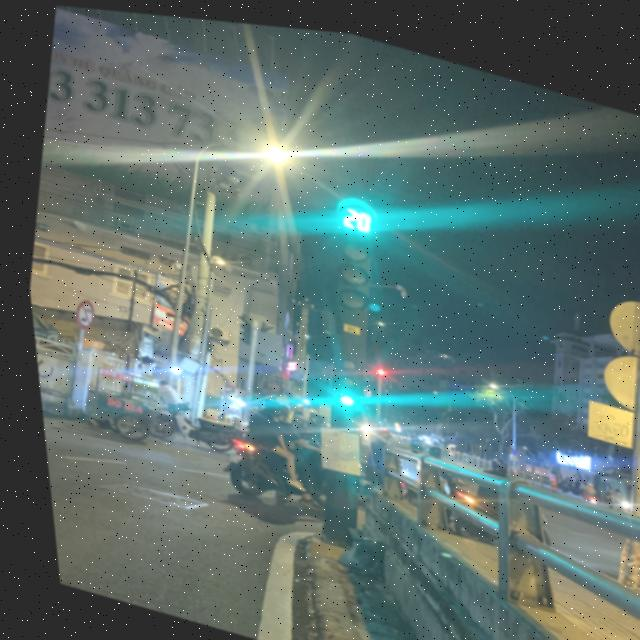Green: (314, 343, 377, 427)
